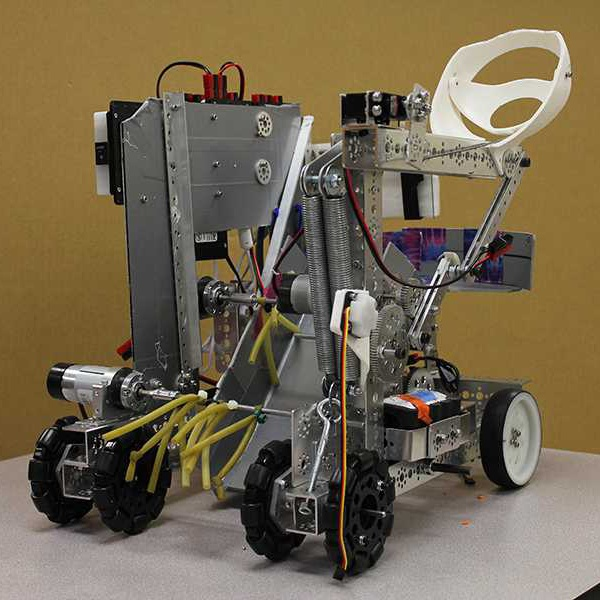robot: (20, 21, 578, 585)
